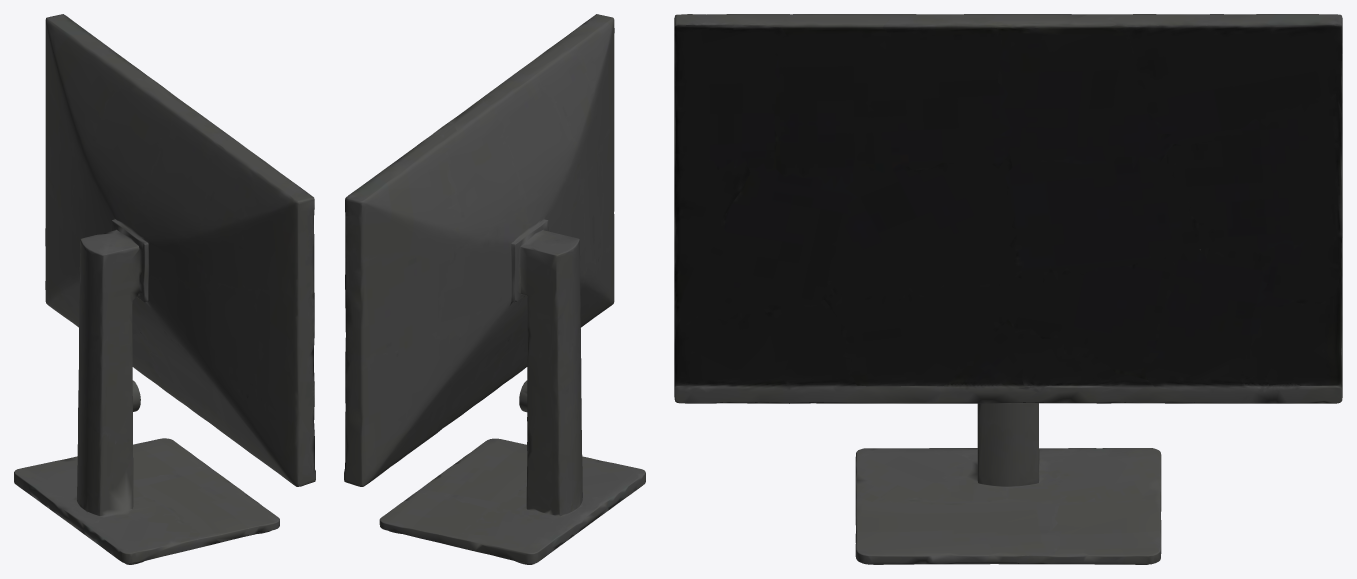
The model's file is monitor.glb.
The picture shows the model from 3 angles, left to right: view 1: azimuth 30°, elevation 25°; view 2: azimuth 150°, elevation 25°; view 3: azimuth 270°, elevation 25°; orthographic projection. The views are drawn at different scales.
Visible parts, largest first — view 1: tripo_node_24b13a8c-4522-40fe-9b24-e6e54917f04a; view 2: tripo_node_24b13a8c-4522-40fe-9b24-e6e54917f04a; view 3: tripo_node_24b13a8c-4522-40fe-9b24-e6e54917f04a.
Part boxes in pixels (left/top/right/bottom): tripo_node_24b13a8c-4522-40fe-9b24-e6e54917f04a: left=14, top=14, right=315, bottom=564; tripo_node_24b13a8c-4522-40fe-9b24-e6e54917f04a: left=344, top=14, right=645, bottom=564; tripo_node_24b13a8c-4522-40fe-9b24-e6e54917f04a: left=674, top=14, right=1342, bottom=564.
Bounding box in the file's own units: 0.362 × 0.8591 × 1.
1 material, 1 textured.
